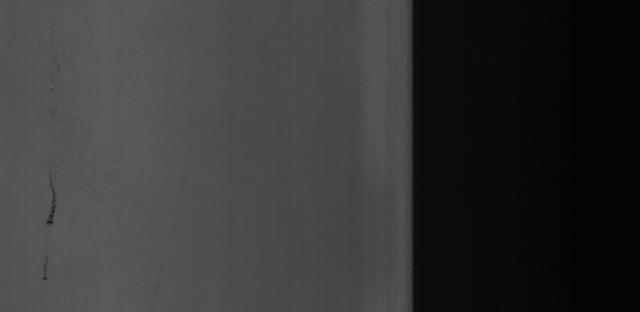inclusion: (38, 166, 60, 228), (38, 244, 53, 281)
